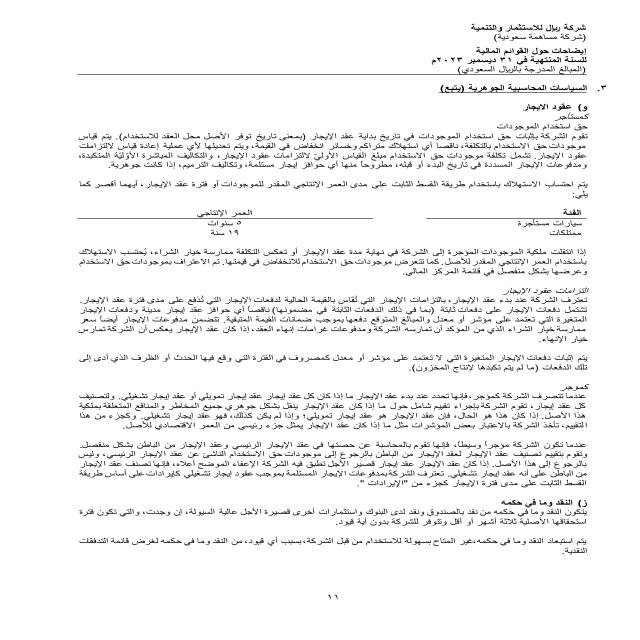notes: (466, 49, 594, 57)
text: (56, 98, 595, 558)
